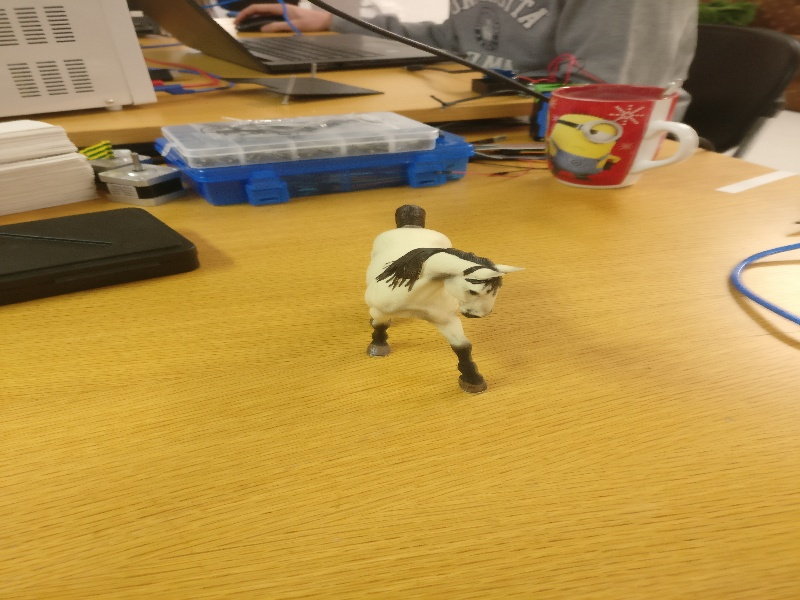toy: (355, 196, 532, 398)
